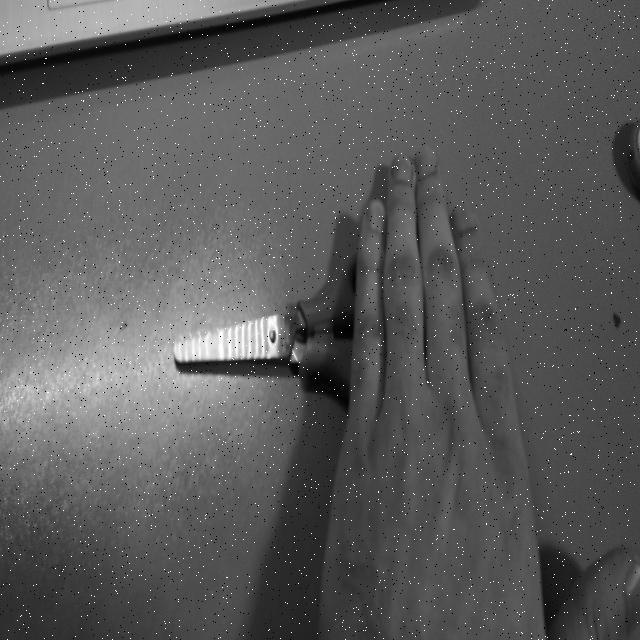scissors: (169, 208, 453, 436)
